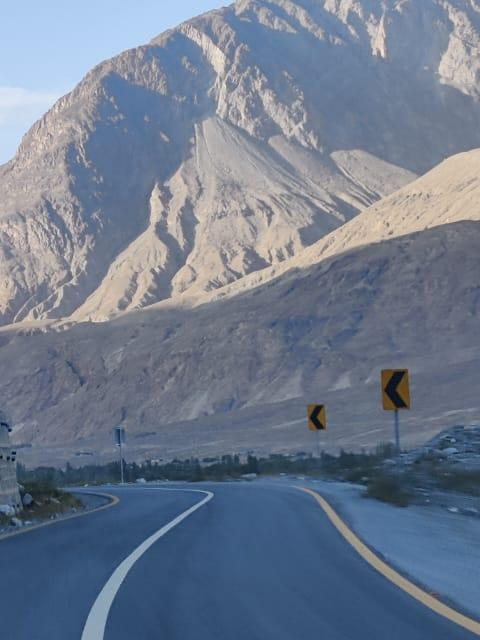left_turn: (32, 451, 257, 525), (379, 366, 415, 418), (305, 400, 328, 430)
